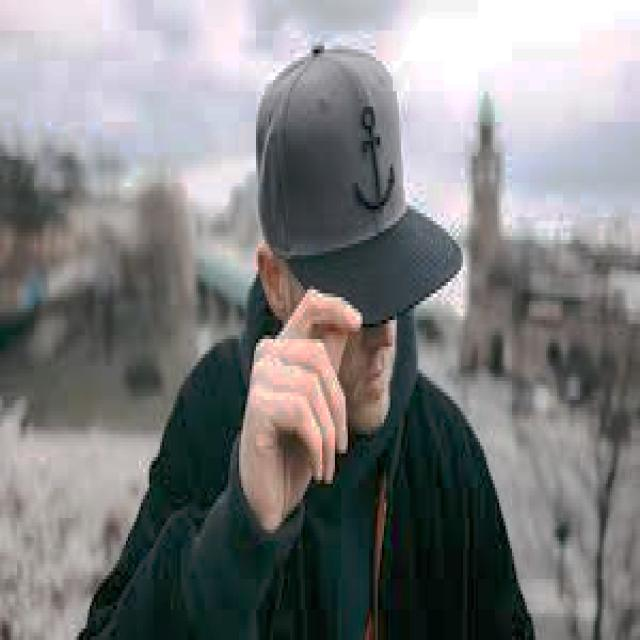TOPI: (248, 34, 467, 343)
